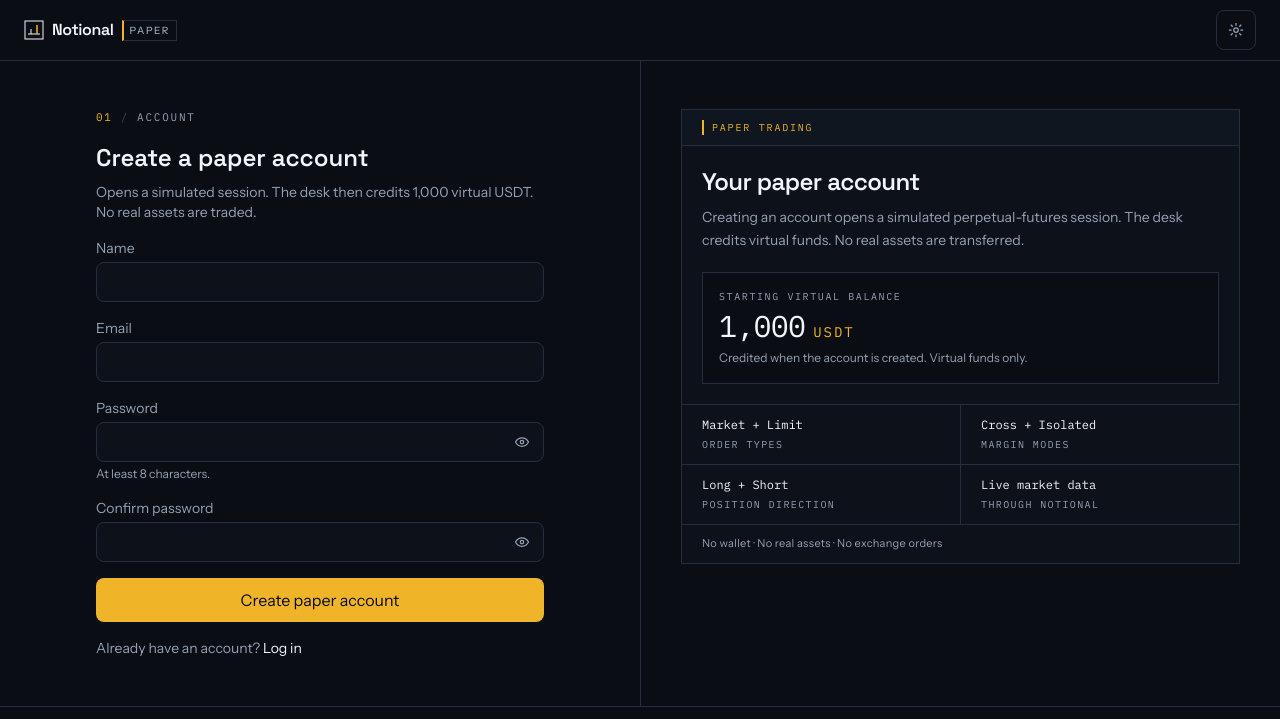
auth pages › sign up › toggles each password field independently
This screenshot has width=1280, height=719.
Click the 1st button named "Show password": click(522, 442) x1=500 y1=422 x2=544 y2=462
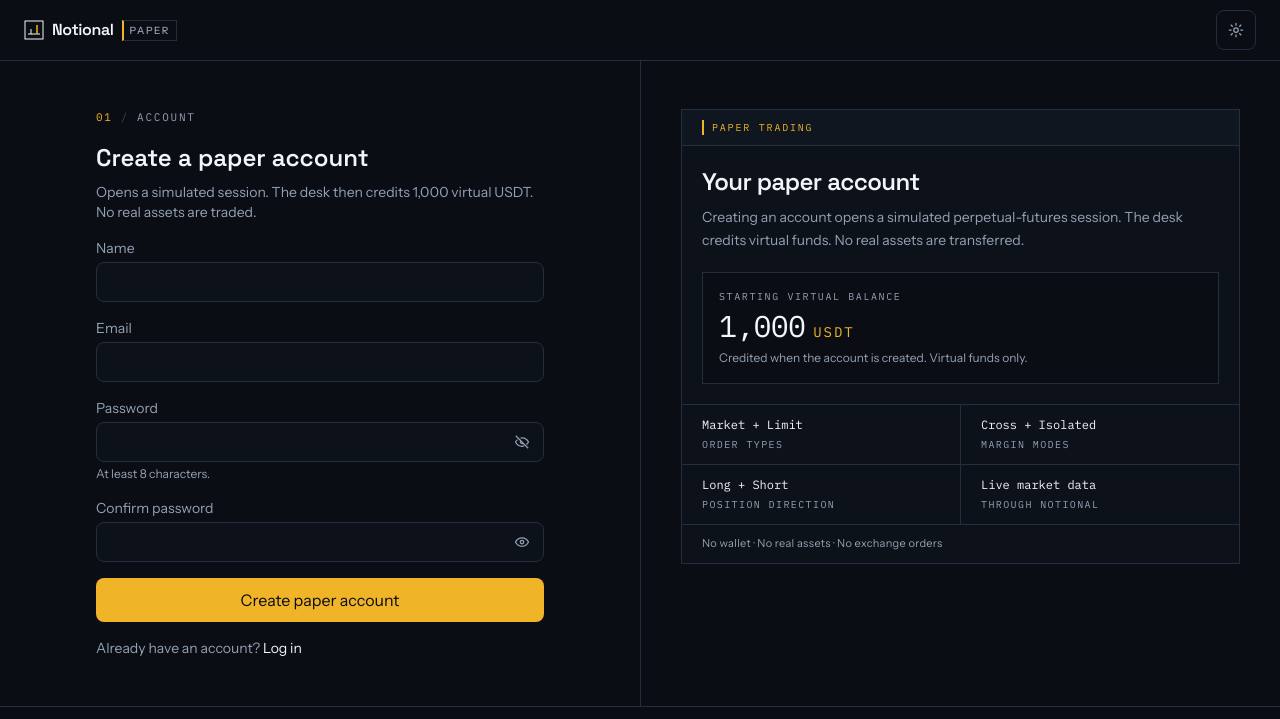
Result: the field labelled "Password" shows its text at x1=96 y1=422 x2=544 y2=462
Click the button named "Show password": click(522, 542) x1=500 y1=522 x2=544 y2=562
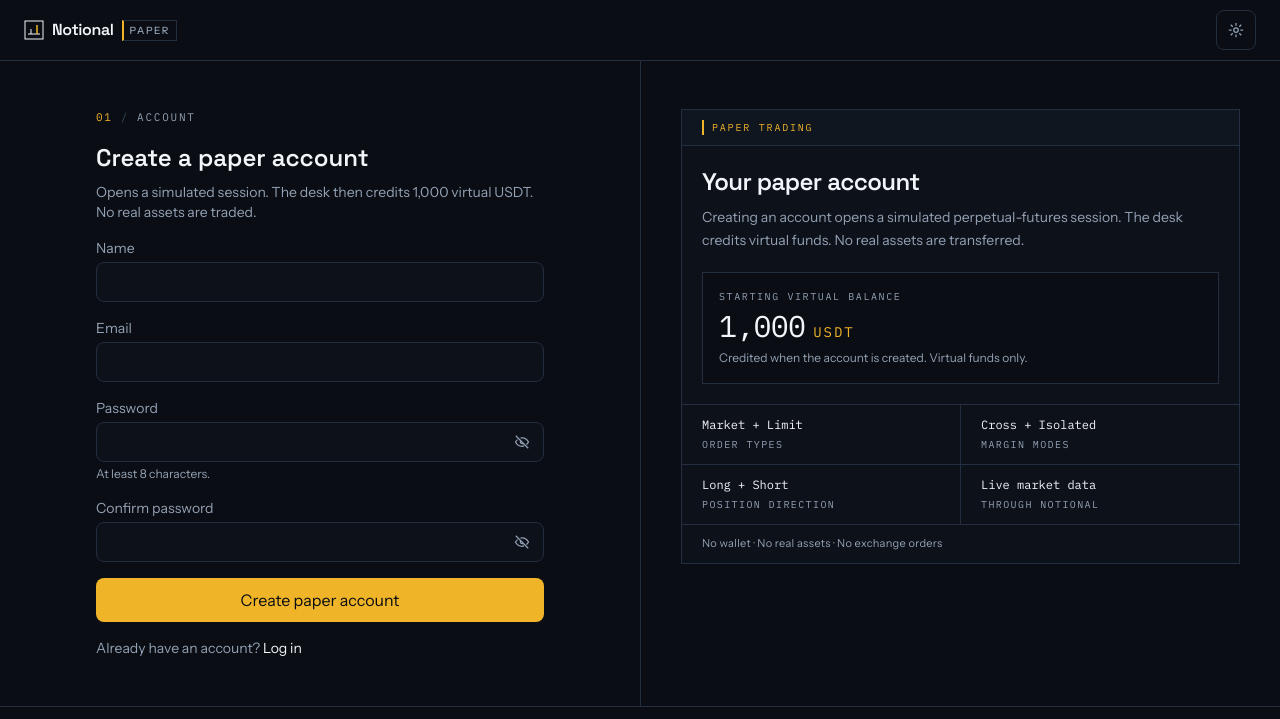
Result: the field labelled "Password" shows its text at x1=96 y1=422 x2=544 y2=462
Result: the field labelled "Confirm password" shows its text at x1=96 y1=522 x2=544 y2=562
Click the 1st button named "Show password": click(522, 442) x1=500 y1=422 x2=544 y2=462
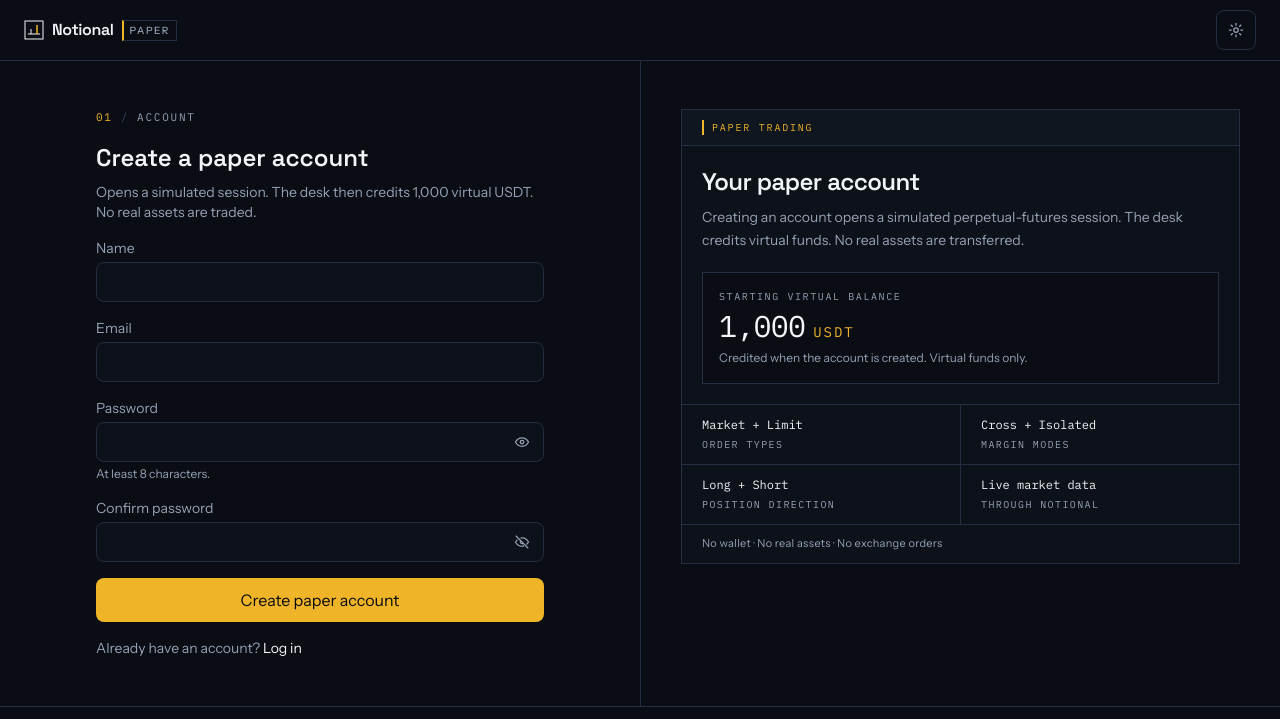
Result: the field labelled "Confirm password" shows its text at x1=96 y1=522 x2=544 y2=562
Result: the password field labelled "Password" hides its text at x1=96 y1=422 x2=544 y2=462
